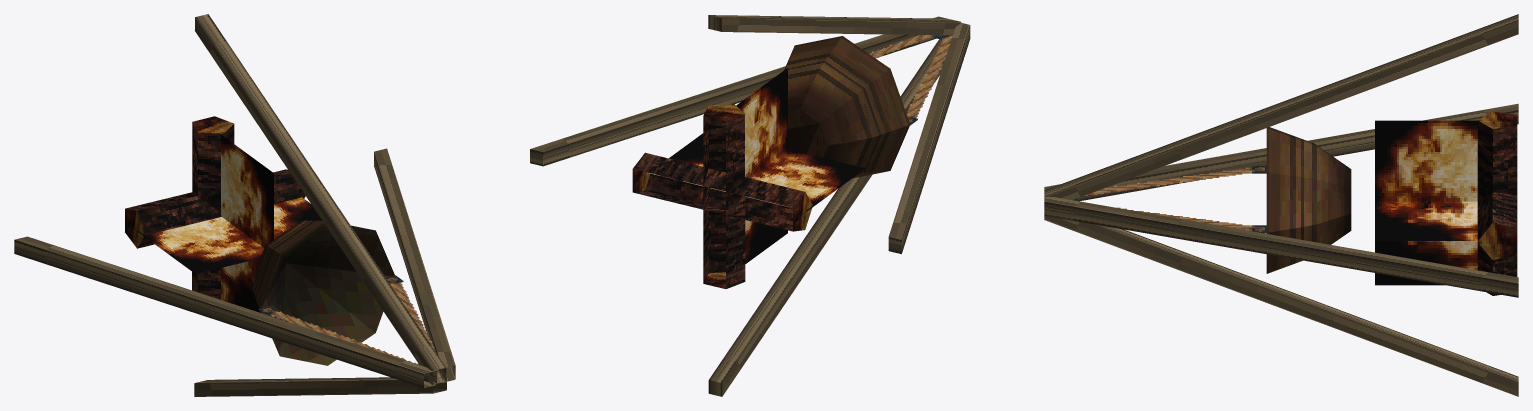
The model's file is cazfire.obj.
The picture shows the model from 3 angles, left to right: view 1: azimuth 30°, elevation 25°; view 2: azimuth 150°, elevation 25°; view 3: azimuth 270°, elevation 25°; orthographic projection.
Bounding box in the file's own units: 7.58 × 7.38 × 8.42.
Materials: 7 (7 with a texture image).
